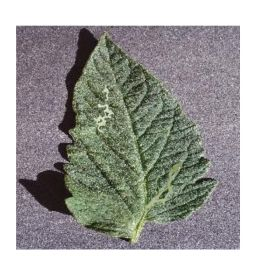liriomyza: (146, 162, 180, 211), (94, 86, 115, 134)
